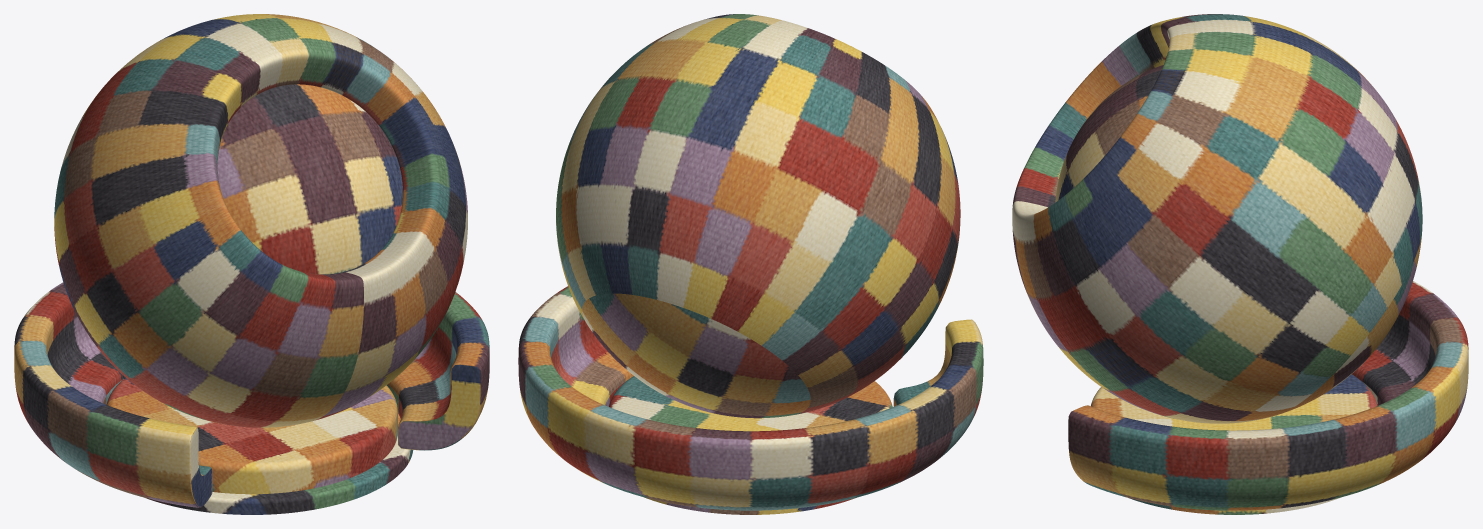
File: Motley_Patchwork_Rug.gltf
3 views of the same model, side by side, from view 1: azimuth 30°, elevation 25°; view 2: azimuth 150°, elevation 25°; view 3: azimuth 270°, elevation 25° (orthographic). The views are drawn at different scales.
Parts seen in each view (by area): view 1: Preview_Mesh, Calibration_Mesh; view 2: Preview_Mesh, Calibration_Mesh; view 3: Preview_Mesh, Calibration_Mesh.
Boxes of the visible parts, <box> form: Preview_Mesh: <box>14,14,489,507</box>; Calibration_Mesh: <box>106,84,413,514</box>; Preview_Mesh: <box>518,14,983,510</box>; Calibration_Mesh: <box>609,376,892,514</box>; Preview_Mesh: <box>1012,14,1468,510</box>; Calibration_Mesh: <box>1055,65,1377,514</box>.
Size of the model in its own units: 2.14 by 2.09 by 2.08.
Materials: 1 (1 with a texture image).
